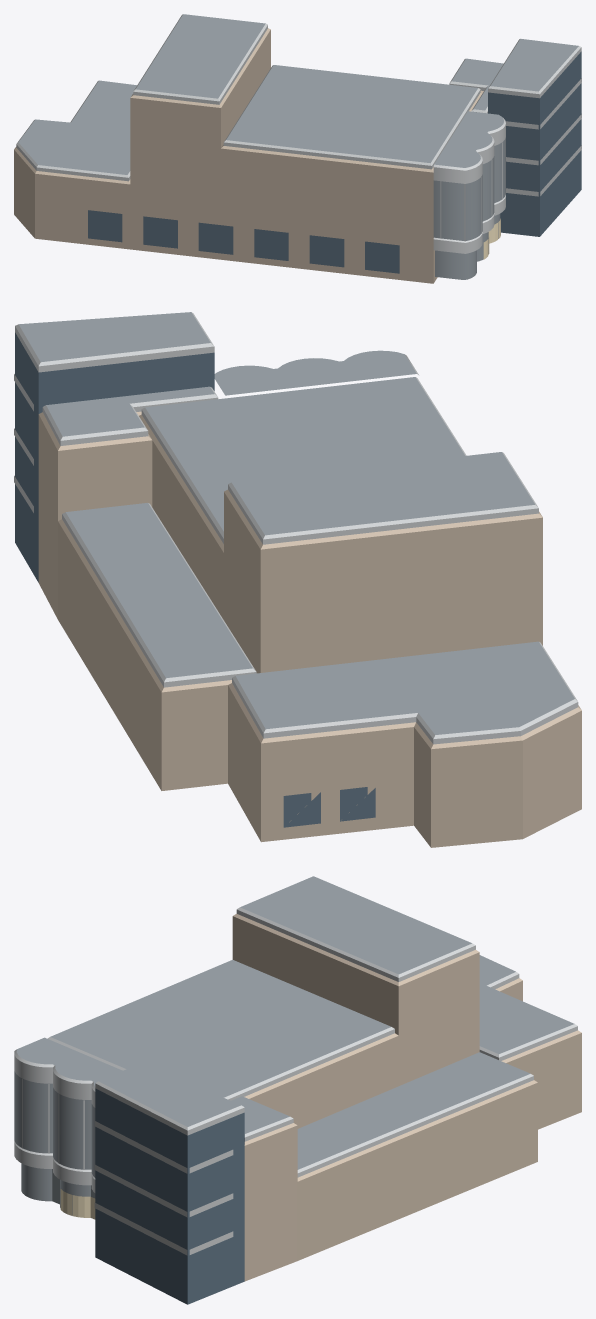
Rendered from detail.glb.
3 renders of one model, top to bottom at view 1: azimuth 30°, elevation 25°; view 2: azimuth 150°, elevation 25°; view 3: azimuth 270°, elevation 25°, orthographic. The views are drawn at different scales.
Visible parts, largest first — view 1: knight-theater; view 2: knight-theater; view 3: knight-theater.
Part boxes in pixels (x1,y1,x2,y2): knight-theater: [14, 14, 581, 283]; knight-theater: [14, 312, 581, 847]; knight-theater: [14, 876, 581, 1304].
Bounding box in the file's own units: 83.34 × 27.5 × 73.02.
